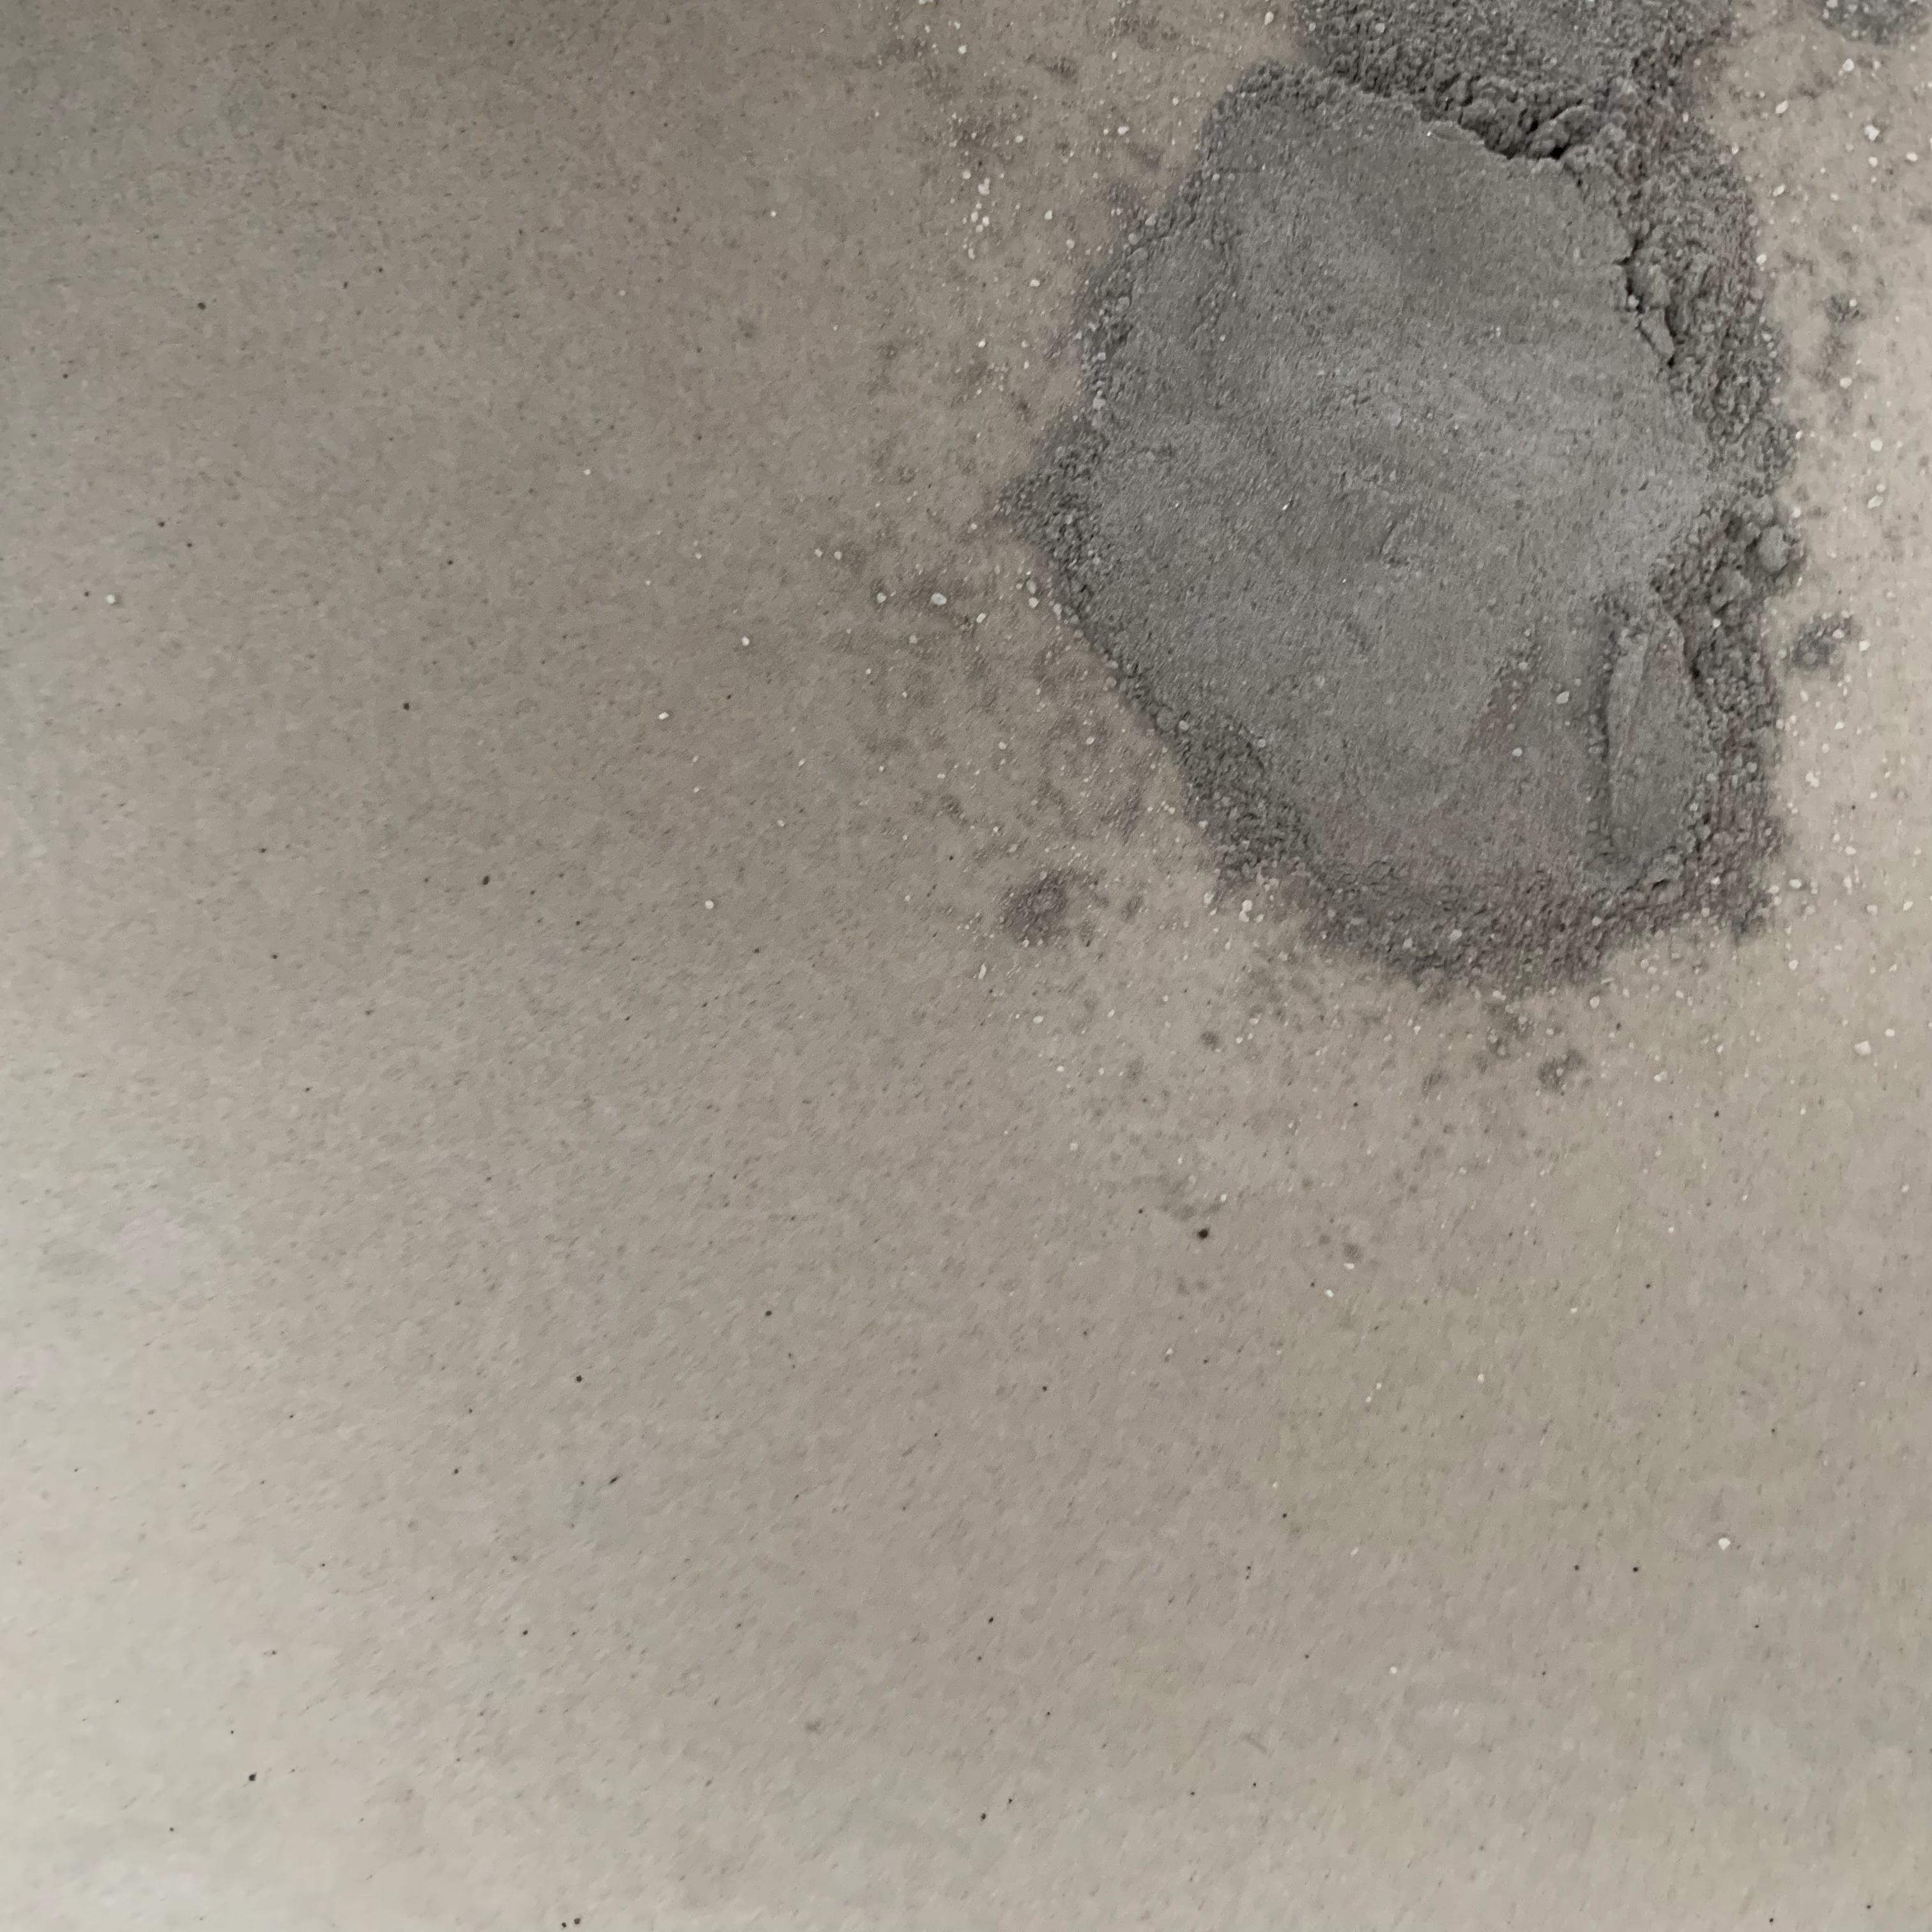ash pile: (766, 0, 1932, 1267)
